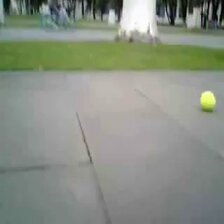tennis: (200, 91, 217, 111)
